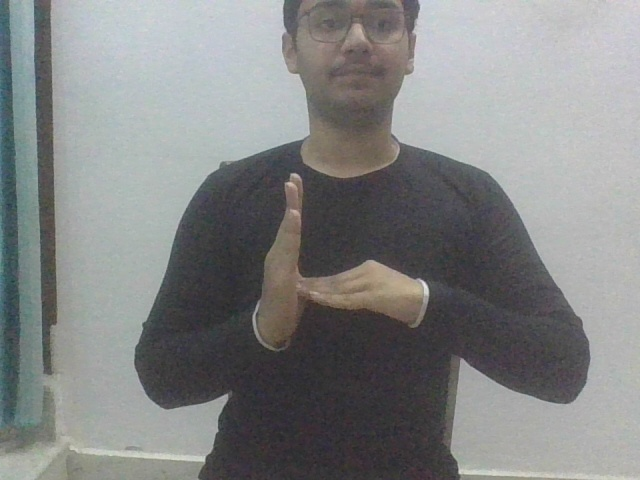Z: (259, 171, 430, 347)
